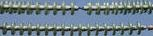gap: (70, 1, 92, 17)
